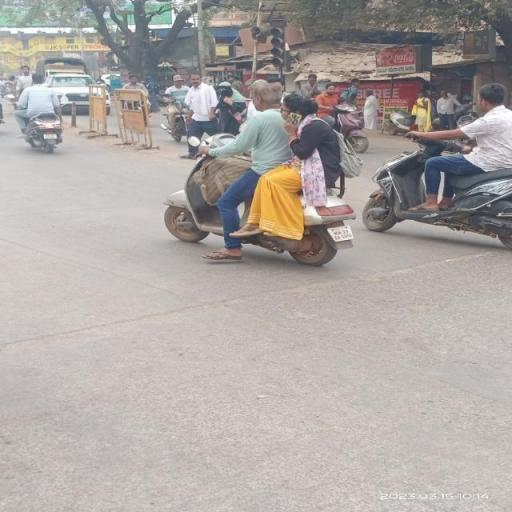bike: (160, 78, 366, 268)
numberplate: (328, 222, 358, 244)
withouthelmet: (249, 82, 283, 110), (281, 95, 312, 121)
